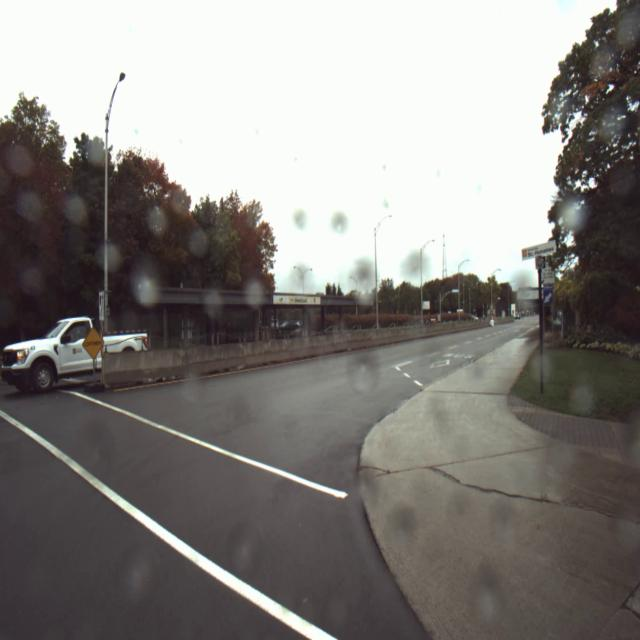car: (3, 300, 154, 397)
